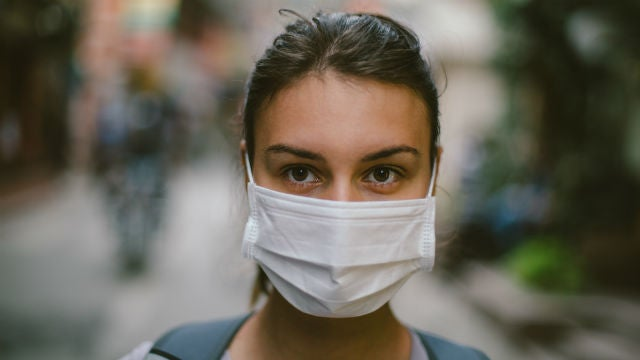surgical: (238, 176, 446, 323)
